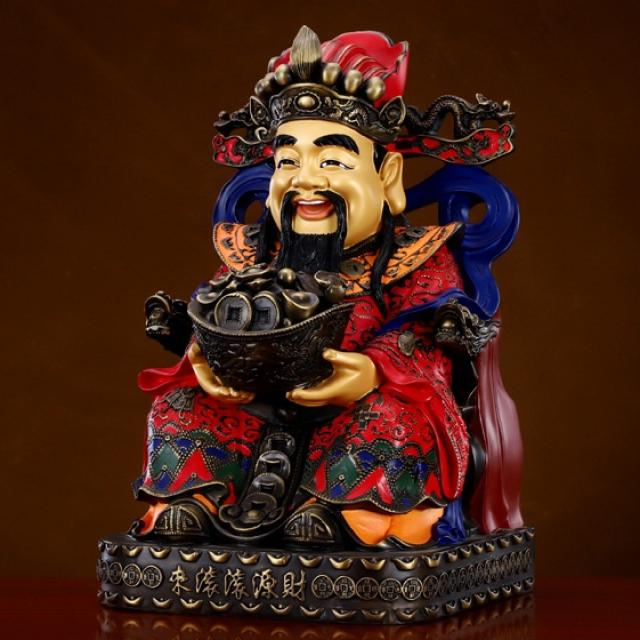Cai shen: (168, 26, 493, 423)
